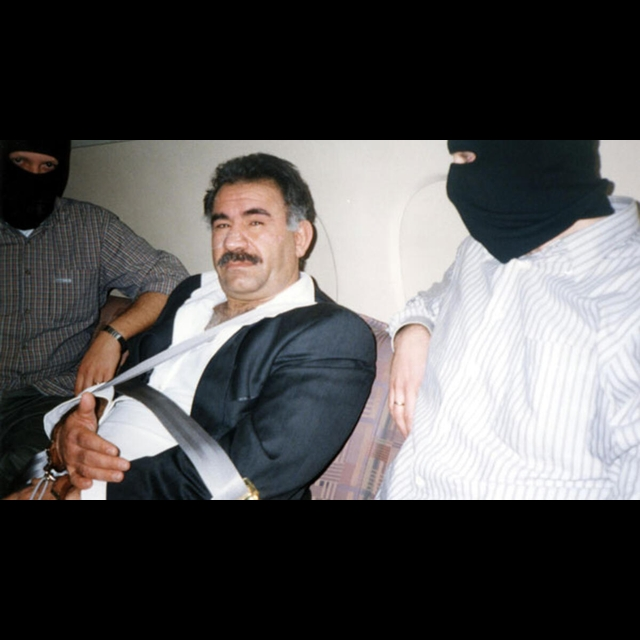APO: (191, 158, 326, 342)
